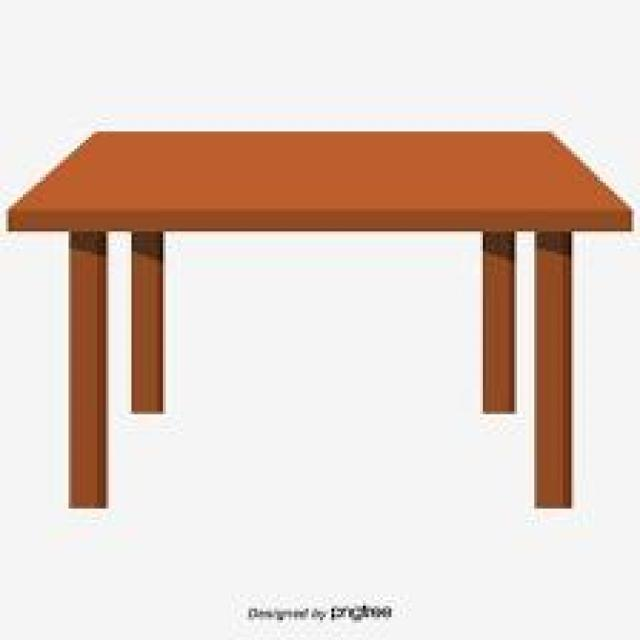table: (11, 82, 628, 547)
